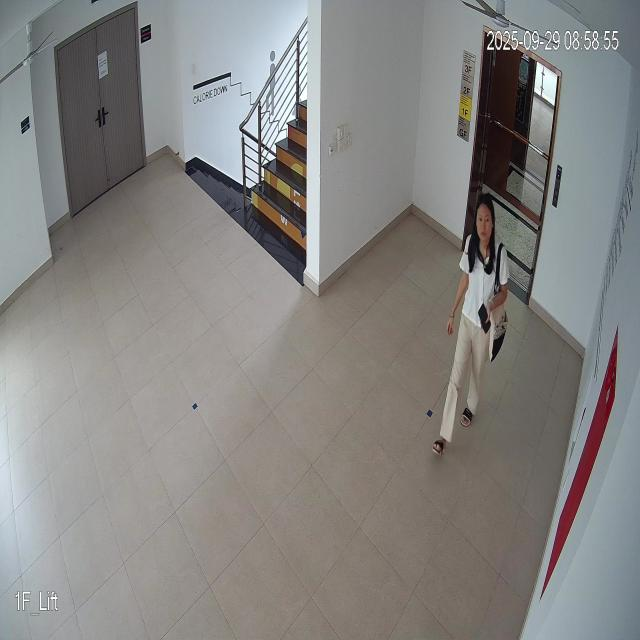face: (476, 193, 498, 245)
